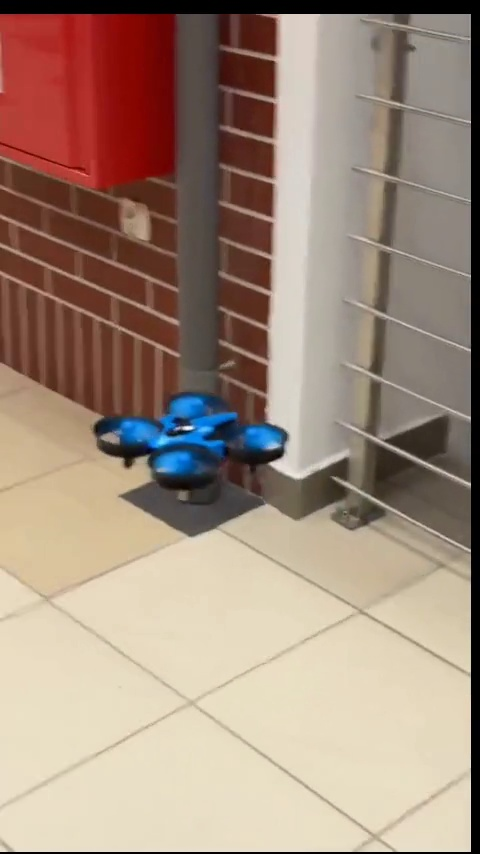drone: (83, 389, 290, 513)
